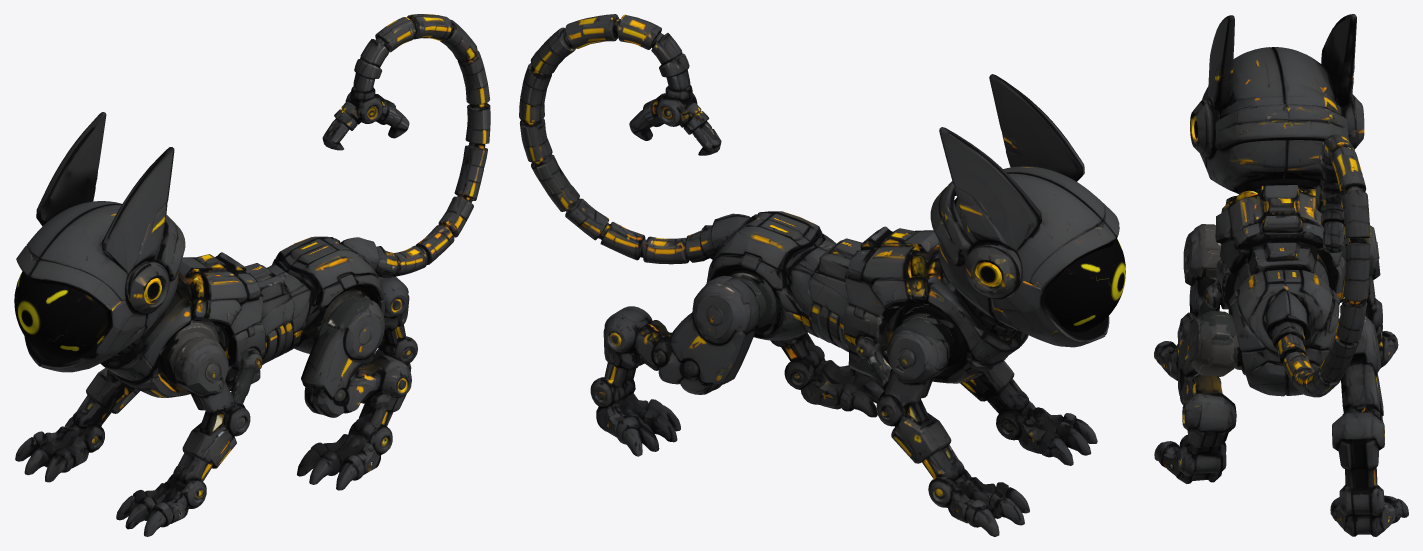
The model's file is zippy.glb.
3 renders of one model, left to right at view 1: azimuth 30°, elevation 25°; view 2: azimuth 150°, elevation 25°; view 3: azimuth 270°, elevation 25°, orthographic. The views are drawn at different scales.
Parts seen in each view (by area): view 1: ZIPPY; view 2: ZIPPY; view 3: ZIPPY.
Part boxes in pixels (bbox=[...]): ZIPPY: bbox=[14, 14, 490, 536]; ZIPPY: bbox=[519, 14, 1125, 536]; ZIPPY: bbox=[1154, 14, 1408, 536].
Bounding box in the file's own units: 1.08 × 0.7554 × 0.4389.
Materials: 1 (1 with a texture image).
